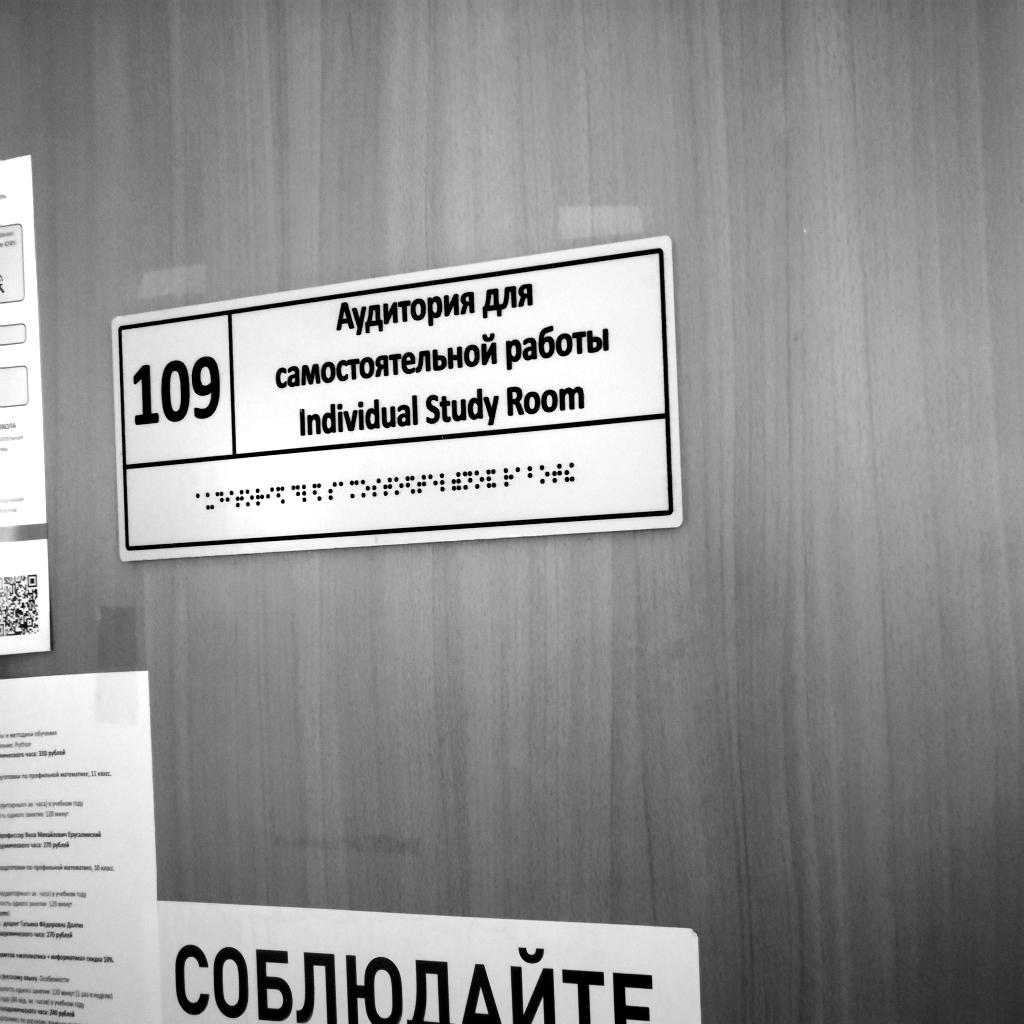_n: (463, 471, 473, 491)
_y: (206, 492, 215, 510)
a: (515, 467, 526, 487), (339, 481, 348, 500), (196, 493, 204, 510)
b: (527, 466, 538, 486)
d: (215, 491, 224, 509), (291, 485, 300, 503)
e: (428, 474, 438, 494)
i: (225, 490, 234, 508), (266, 487, 275, 505)
iKratkoe: (486, 469, 496, 488)
ii: (565, 462, 575, 482)
l: (440, 473, 450, 492), (302, 484, 311, 502)
m: (350, 480, 359, 499)
myagkiy: (451, 471, 461, 492)
o: (474, 470, 485, 490), (539, 465, 550, 485), (394, 477, 404, 496), (361, 479, 370, 498), (246, 489, 254, 507)
r: (503, 468, 514, 487), (256, 488, 265, 506)
s: (328, 481, 337, 500), (372, 478, 381, 497)
t: (552, 463, 562, 484), (417, 474, 427, 494), (383, 477, 393, 496), (236, 490, 244, 507)
ya: (405, 475, 415, 495), (312, 483, 322, 502), (276, 487, 285, 505)
